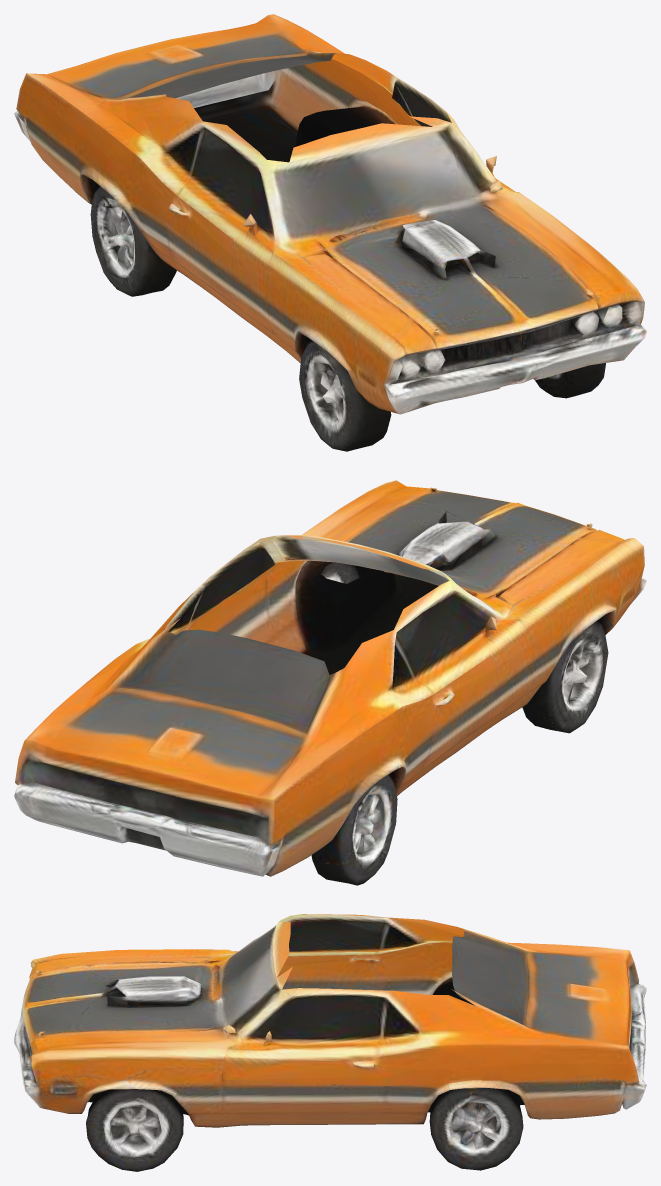
The model's file is muscle.glb.
The picture shows the model from 3 angles, top to bottom: view 1: azimuth 30°, elevation 25°; view 2: azimuth 150°, elevation 25°; view 3: azimuth 270°, elevation 25°; orthographic projection. The views are drawn at different scales.
Parts seen in each view (by area): view 1: model; view 2: model; view 3: model.
Part boxes in pixels (x1,y1,x2,y2): model: (14, 14, 646, 451); model: (14, 480, 646, 885); model: (14, 914, 646, 1171).
Bounding box in the file's own units: 1.24 × 0.9053 × 2.9.
1 material, 1 textured.
